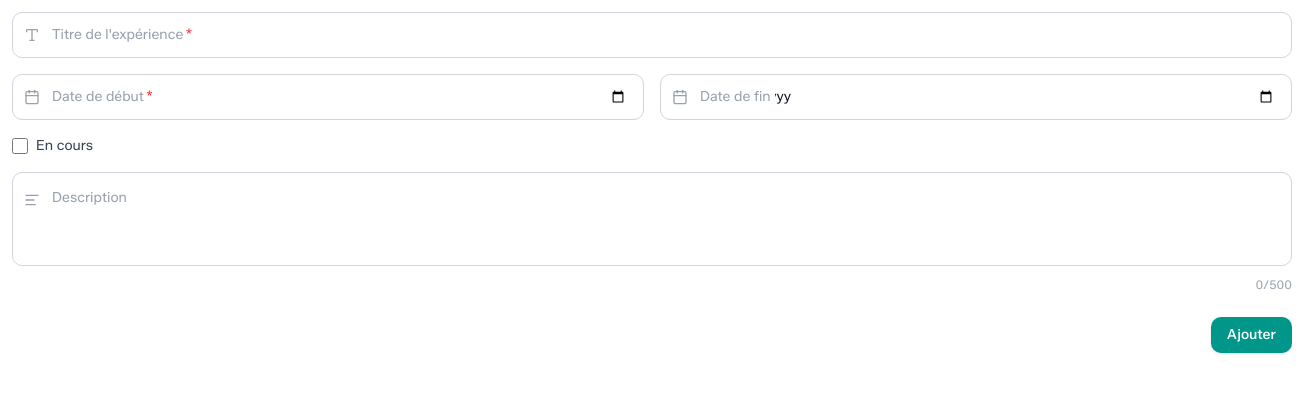
it: ExperienceForm › client-side validation › prevents submit when date_fin is before date_debut
In the field with test id "titre-input": (652, 35) [12,12,1292,58], type "Test"
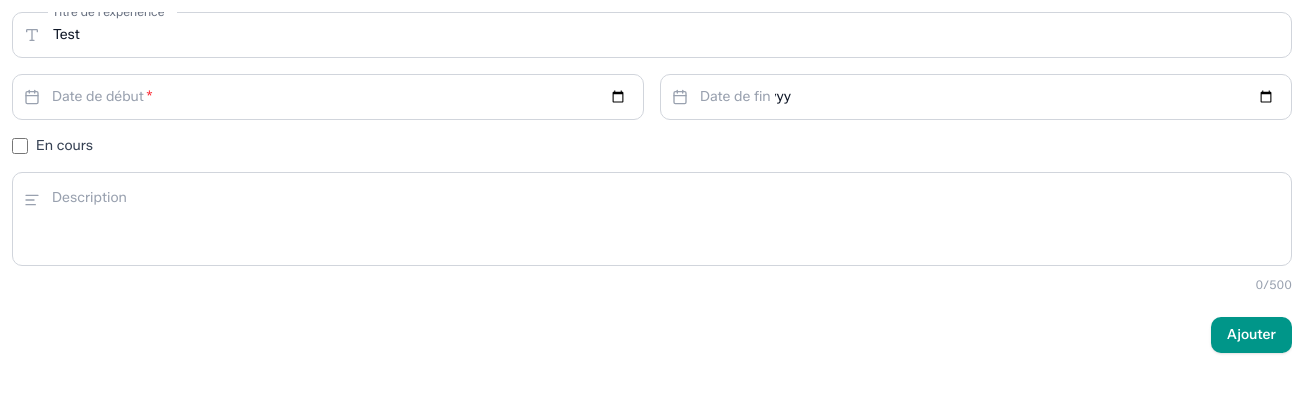
In the date field with test id "date_debut-input": (328, 97) [12,74,644,120], type "2024-06-01"
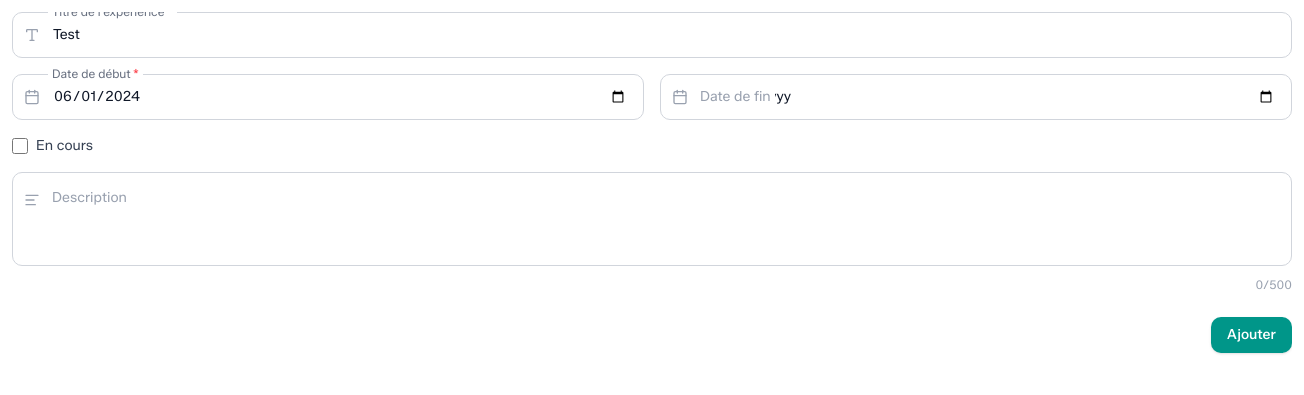
In the date field with test id "date_fin-input": (976, 97) [660,74,1292,120], type "2024-01-01"
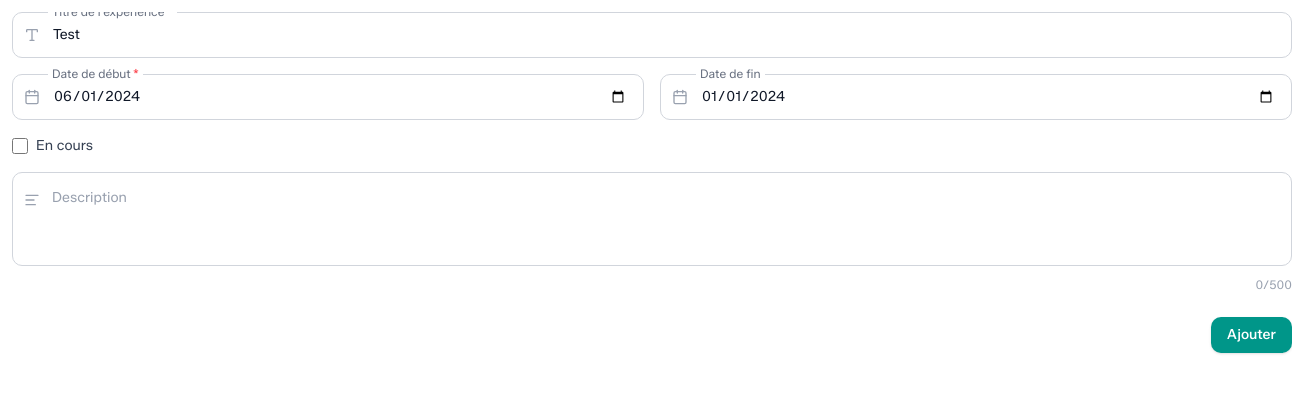
Submit the form
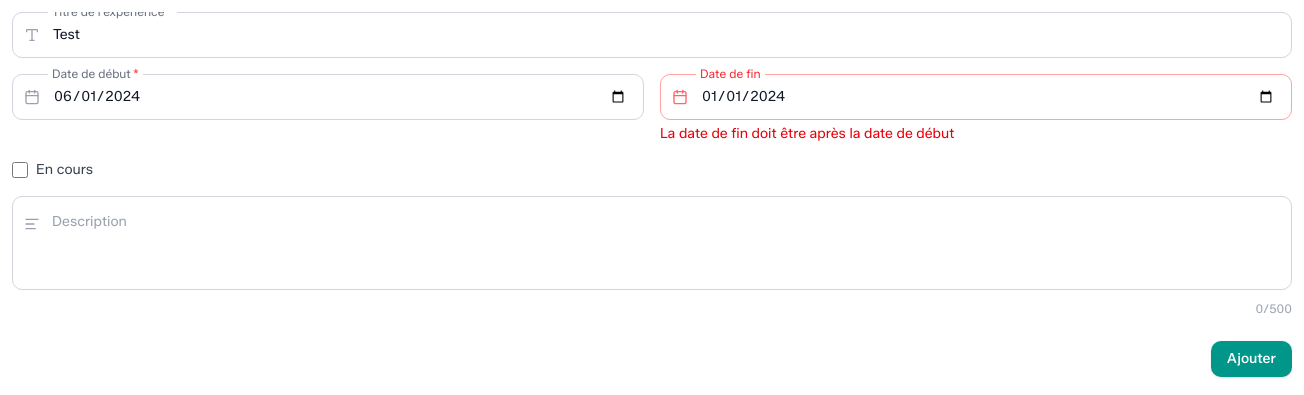
Expected: the text with test id "date_fin-error" reads "La date de fin doit être après la date de début", [660,125,954,142]
